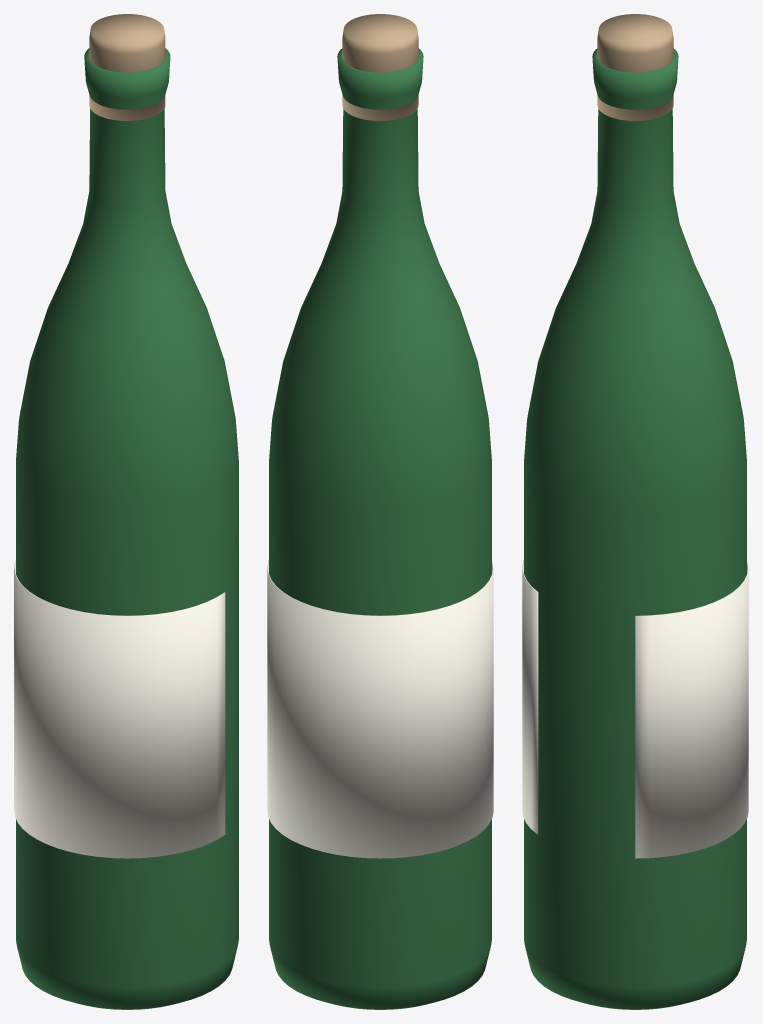
The model's file is bottle_wine.glb.
The picture shows the model from 3 angles, left to right: view 1: azimuth 30°, elevation 25°; view 2: azimuth 150°, elevation 25°; view 3: azimuth 270°, elevation 25°; orthographic projection.
Visible parts, largest first — view 1: Glass, Label, Cap; view 2: Glass, Label, Cap; view 3: Glass, Label, Cap.
Part boxes in pixels (x1,y1,x2,y2): Glass: (16,48,238,1009); Label: (14,561,225,858); Cap: (89,14,165,120); Glass: (269,48,491,1009); Label: (267,561,493,858); Cap: (342,14,418,120); Glass: (524,48,746,1009); Label: (522,561,748,858); Cap: (597,14,673,120).
Bounding box in the file's own units: 0.0762 × 0.35 × 0.0762.
